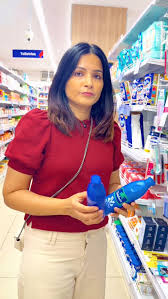parachute: (86, 171, 155, 220), (86, 174, 155, 216)
